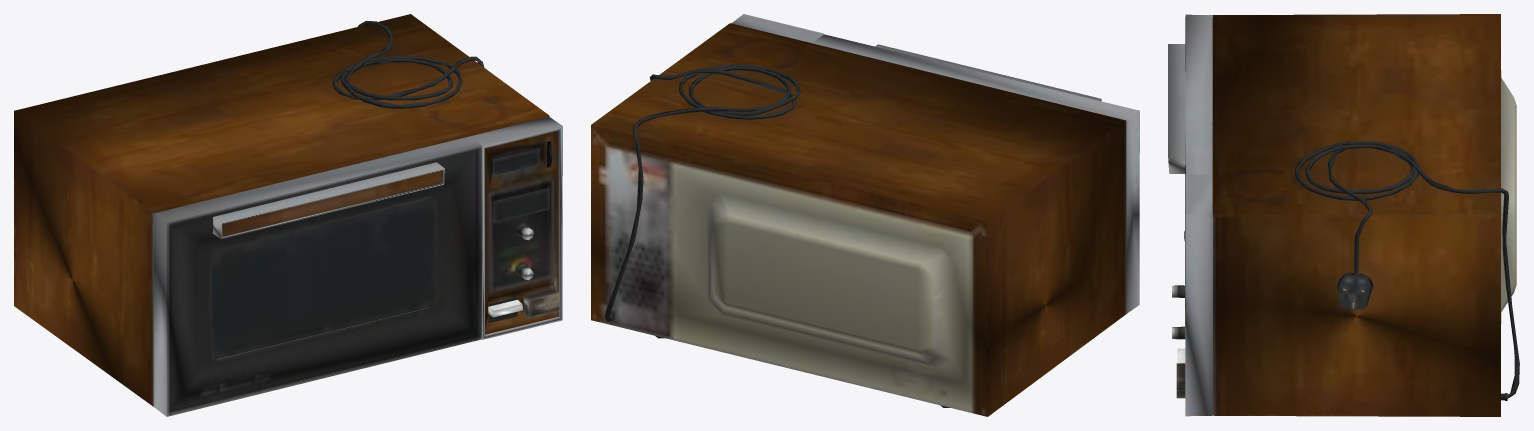
The model's file is microwave.glb.
3 views of the same model, side by side, from view 1: azimuth 30°, elevation 25°; view 2: azimuth 150°, elevation 25°; view 3: azimuth 270°, elevation 25° (orthographic). The views are drawn at different scales.
Visible parts, largest first — view 1: vintage_microwave; view 2: vintage_microwave; view 3: vintage_microwave.
Boxes of the visible parts, x1,y1,x2,y2 form: vintage_microwave: (14, 14, 562, 416); vintage_microwave: (591, 14, 1139, 416); vintage_microwave: (1168, 14, 1519, 416).
Bounding box in the file's own units: 1.07 × 0.5258 × 0.7446.
Materials: 2 (2 with a texture image).
